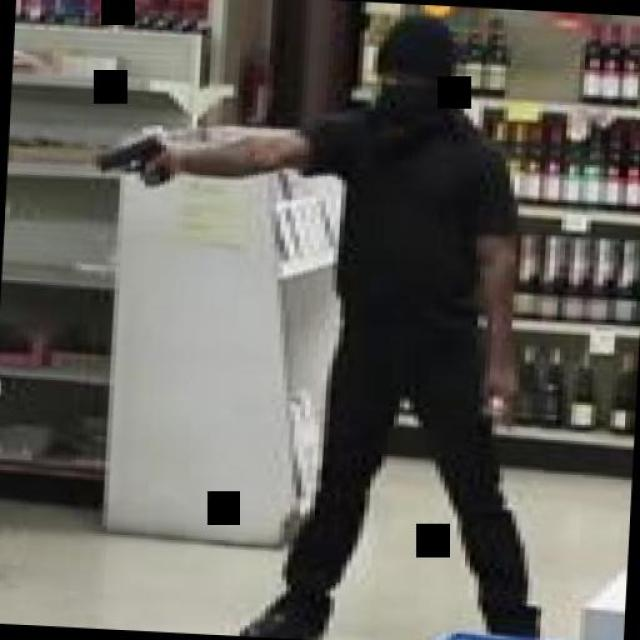gun: (86, 125, 172, 187)
